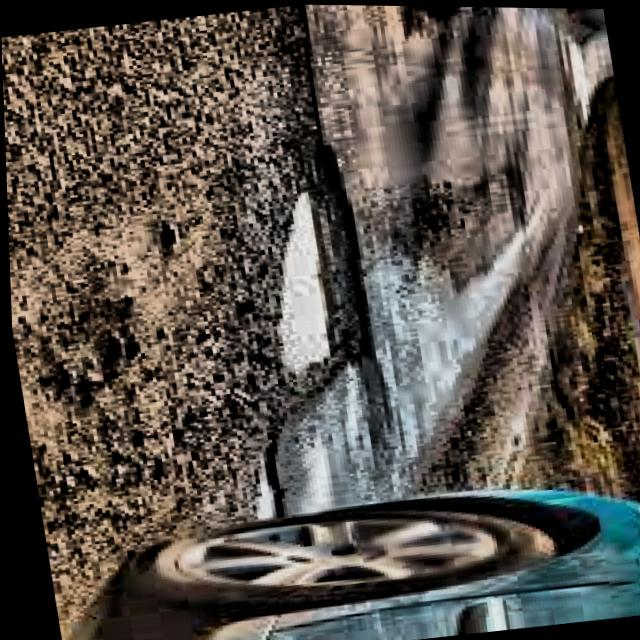Cracks: (276, 191, 326, 370)
